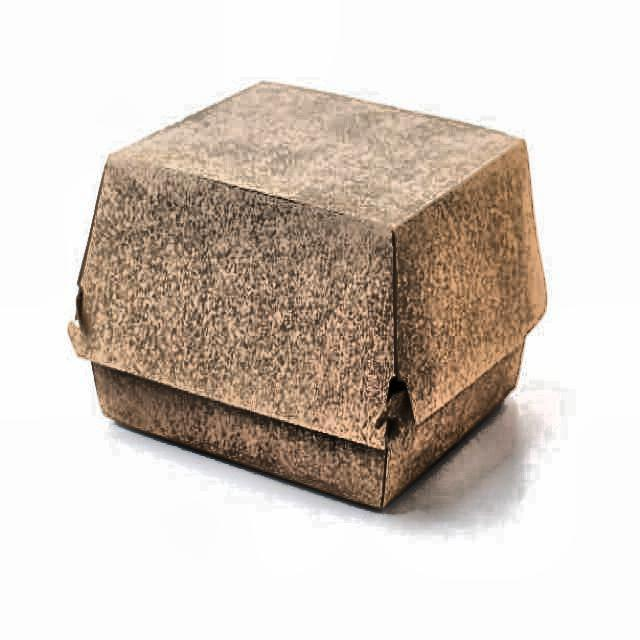cardboard: (66, 81, 549, 512)
